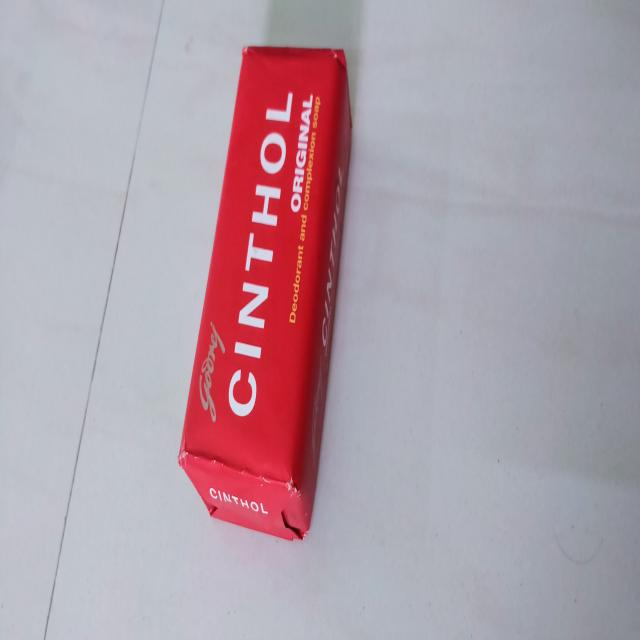soap: (178, 32, 353, 563)
